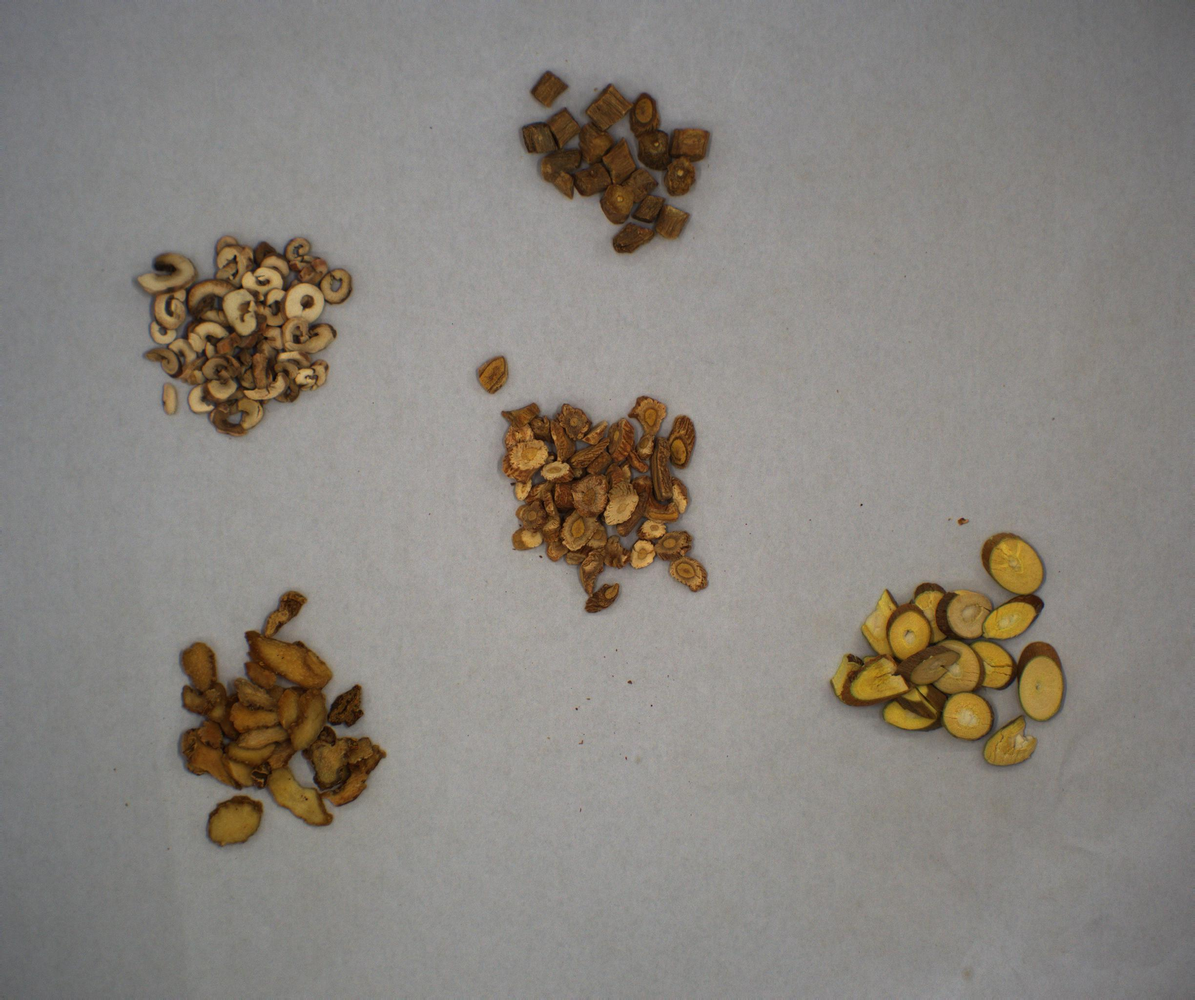banlangen: (501, 396, 712, 616)
mudanpi: (133, 236, 357, 439)
niuxi: (519, 72, 713, 255)
sangzhi: (830, 534, 1069, 769)
yuzhu: (178, 592, 386, 848)
